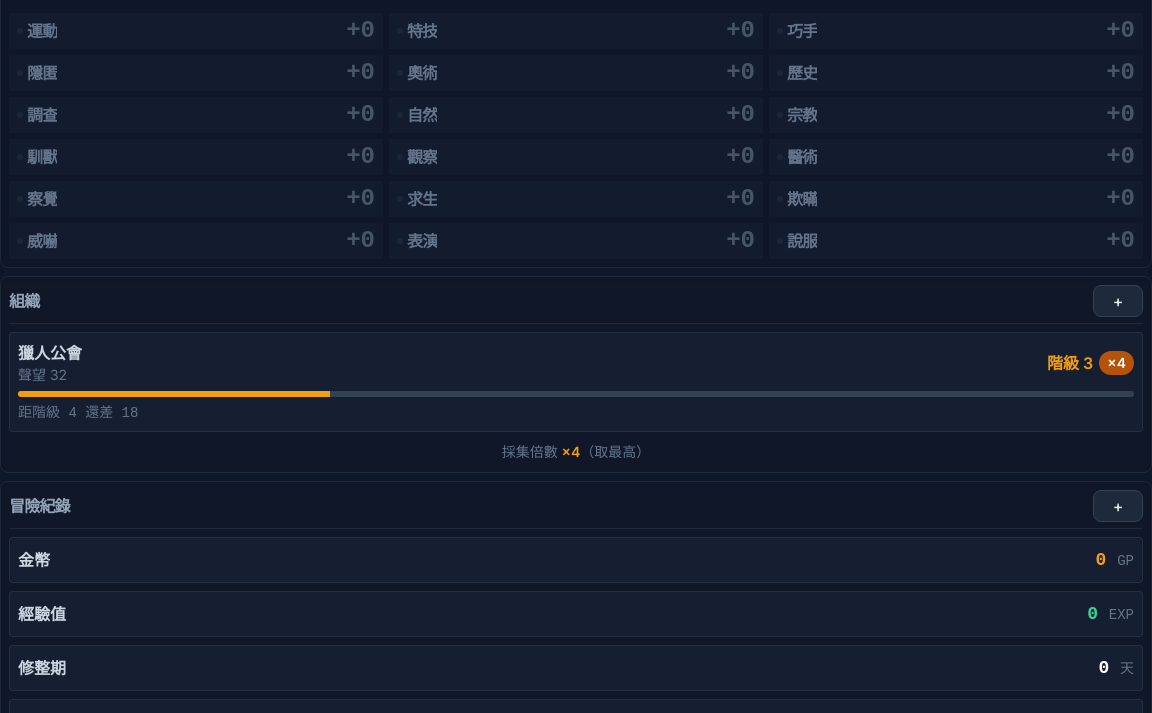
角色頁 - 聲望編輯彈窗 › 退出組織要先跳確認，未確認前不可寫入
(page scrolled)
Click the text "獵人公會".
click(50, 353)  # box [18,341,82,365]
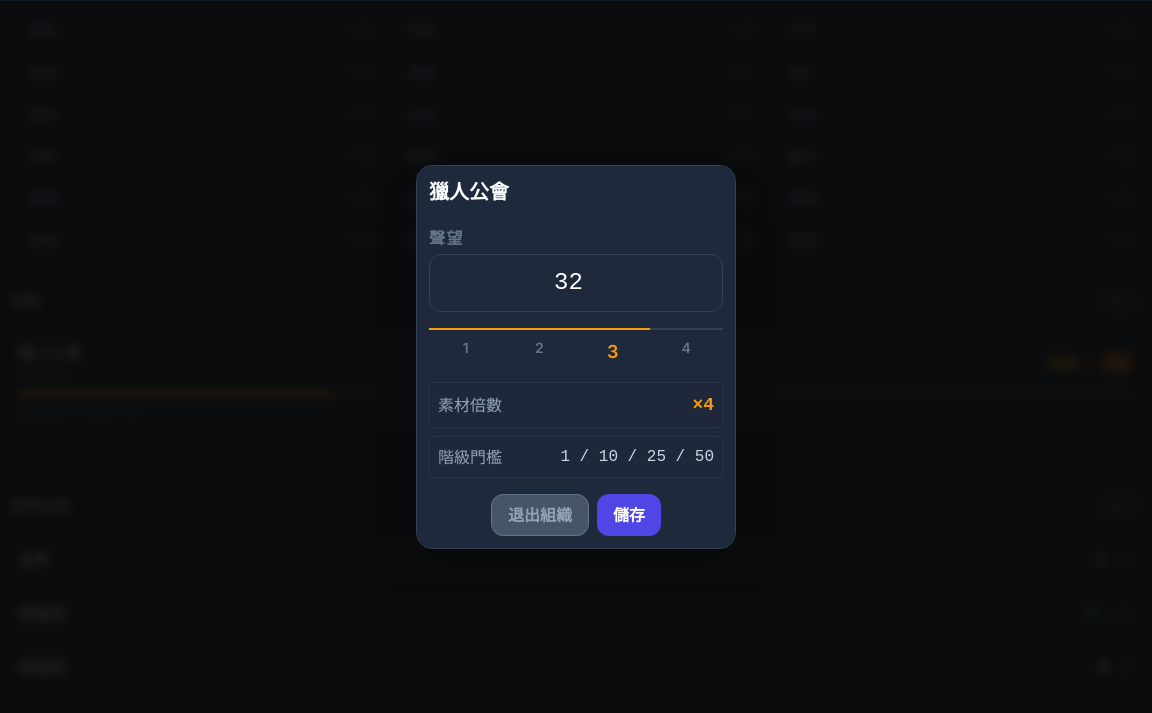
Now the text "素材倍數" is shown, box [438,393,502,417]
Click the button "退出組織".
click(540, 515)  # box [491,494,589,536]
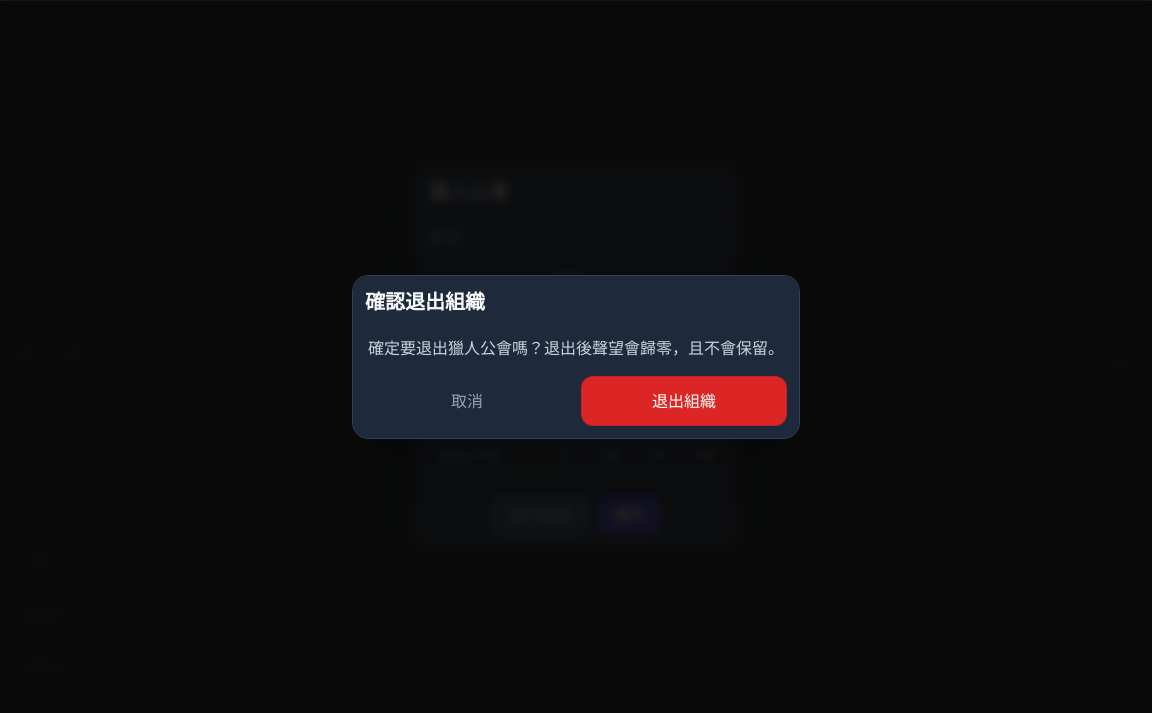
Now the heading "確認退出組織" is shown, box [365,290,485,314]
